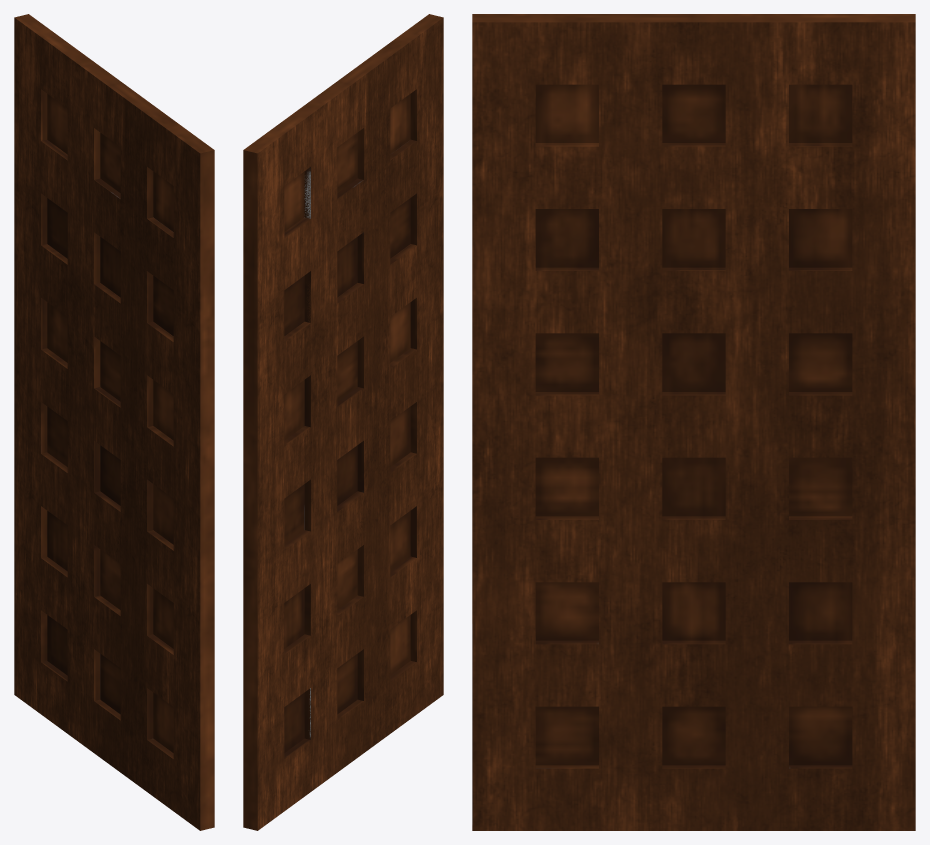
Rendered from porta_grande.001.fbx.
The picture shows the model from 3 angles, left to right: view 1: azimuth 30°, elevation 25°; view 2: azimuth 150°, elevation 25°; view 3: azimuth 270°, elevation 25°; orthographic projection. The views are drawn at different scales.
Parts seen in each view (by area): view 1: porta_grande.001; view 2: porta_grande.001; view 3: porta_grande.001.
Boxes of the visible parts, box(x1,y1,x2,y2) form: porta_grande.001: box(14, 14, 214, 830); porta_grande.001: box(243, 14, 443, 830); porta_grande.001: box(472, 14, 915, 830).
Size of the model in its own units: 15.84 by 716 by 356.
